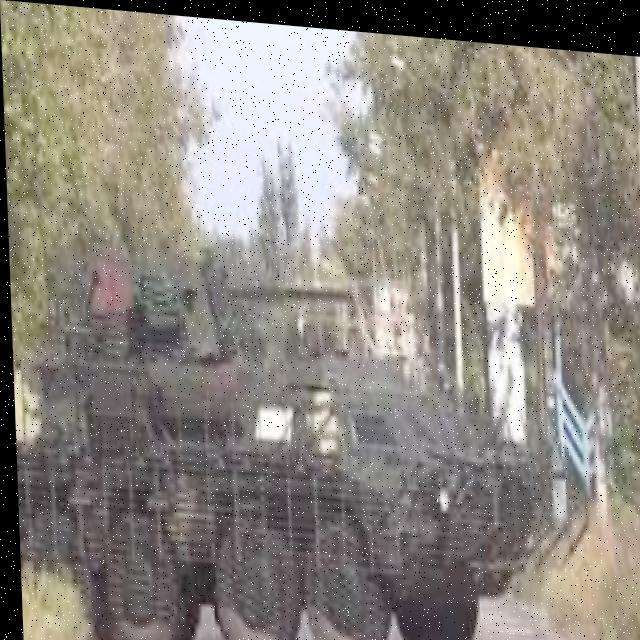MIL_APC: (8, 262, 560, 640)
